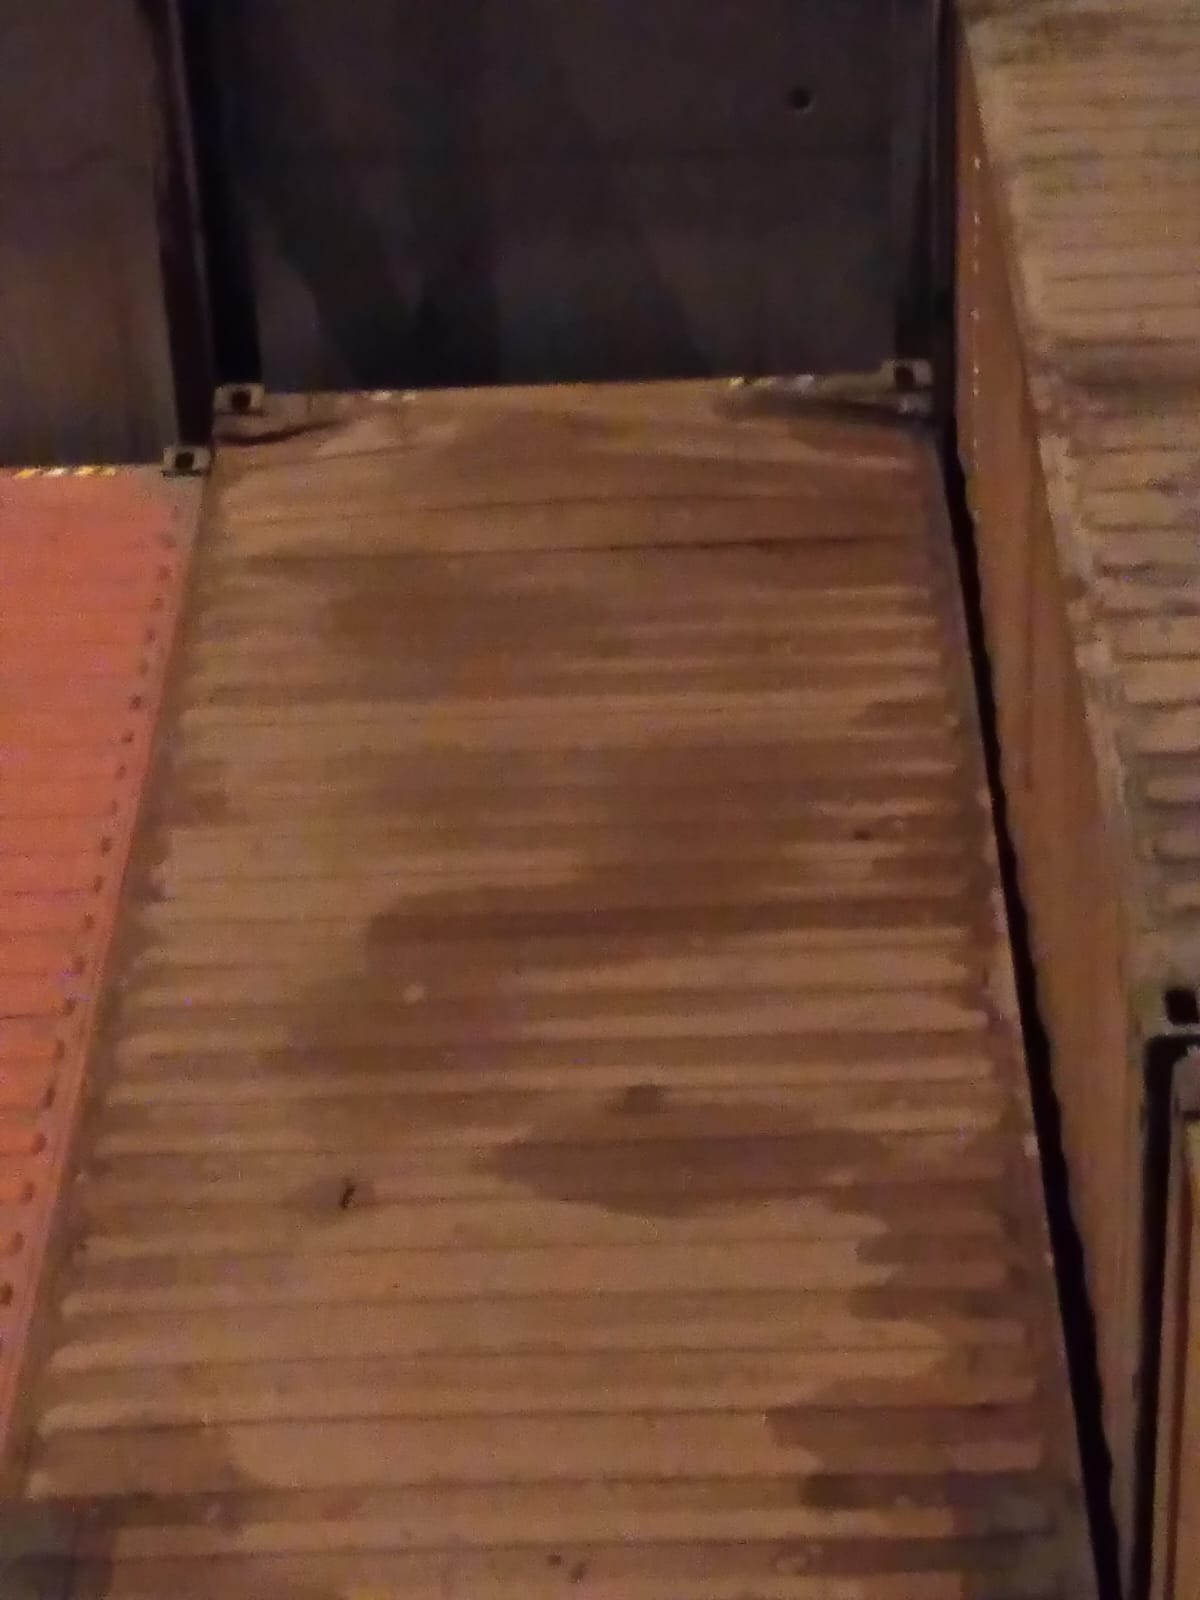cut: (155, 388, 424, 459)
hole: (297, 1145, 364, 1257)
